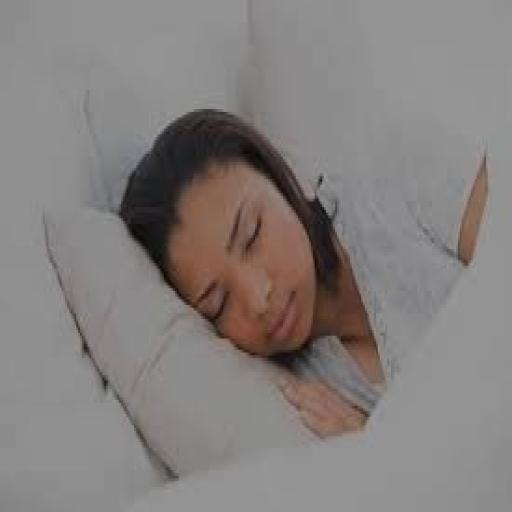sleeping: (116, 104, 492, 442)
